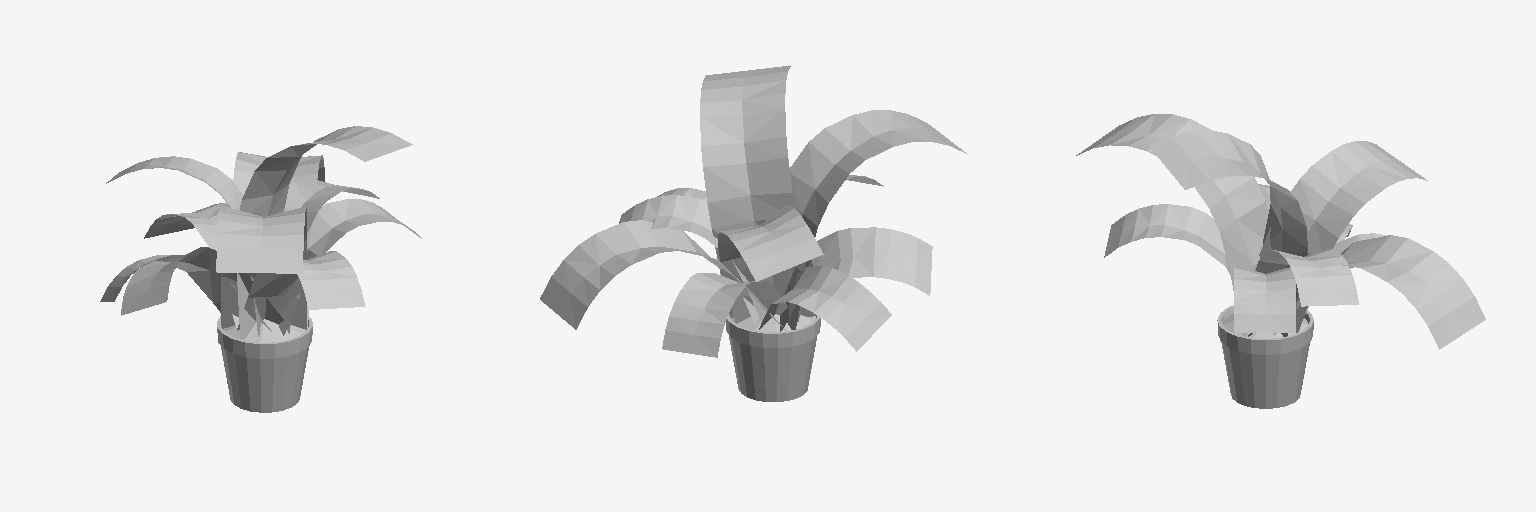
The model's file is eb_house_plant_01.obj.
The picture shows the model from 3 angles: view 1: azimuth 30°, elevation 25°; view 2: azimuth 150°, elevation 25°; view 3: azimuth 270°, elevation 25°; orthographic projection.
Visible parts, largest first — view 1: polySurface8; view 2: polySurface8; view 3: polySurface8.
Boxes of the visible parts, x1=… form: polySurface8: x1=100, y1=126, x2=421, y2=412; polySurface8: x1=540, y1=65, x2=966, y2=401; polySurface8: x1=1076, y1=114, x2=1485, y2=408.
Size of the model in its own units: 39.59 by 34.88 by 47.5.